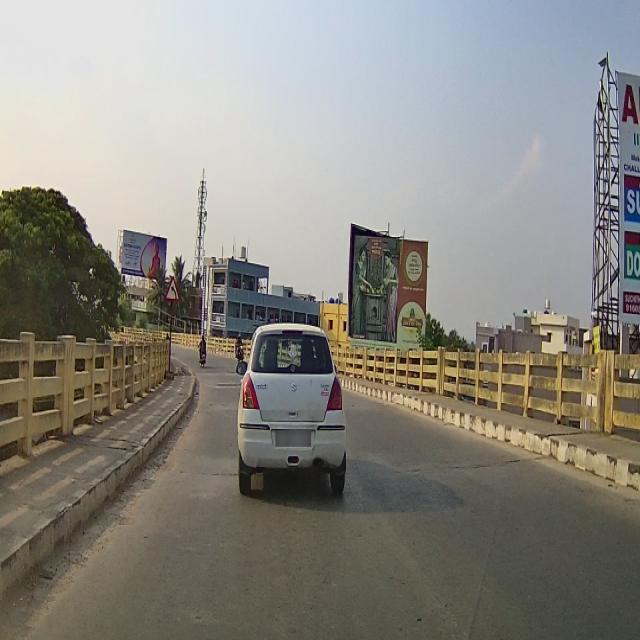car ahead at: (238, 319, 348, 493)
